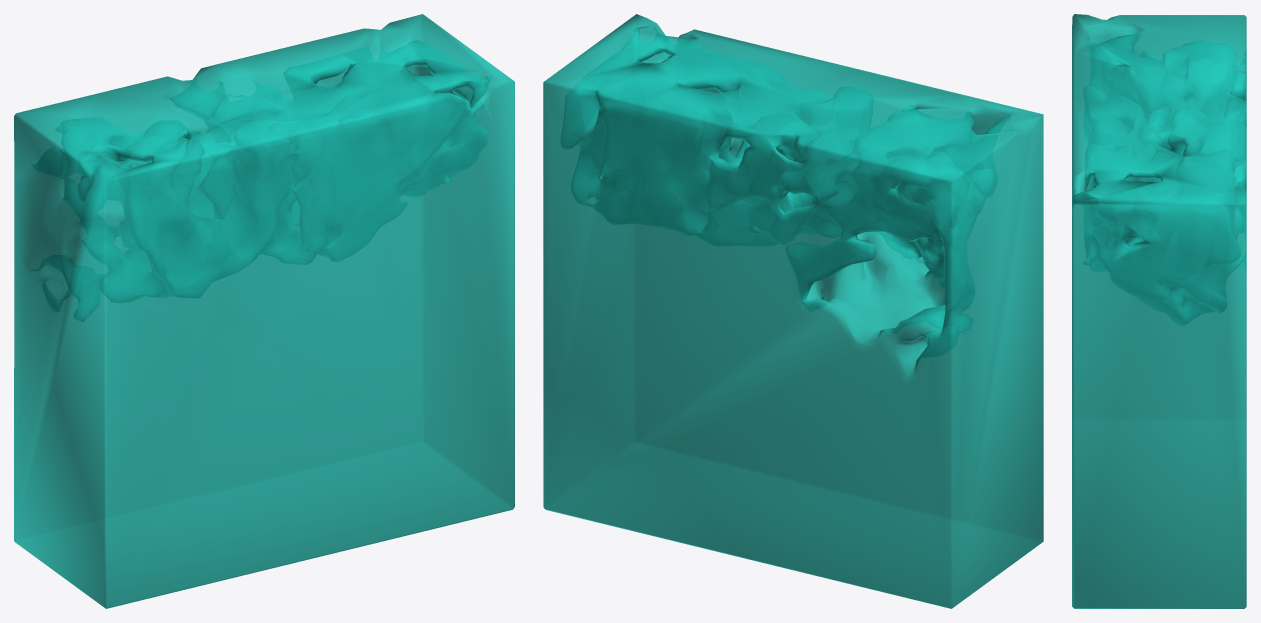
3 renders of one model, left to right at view 1: azimuth 30°, elevation 25°; view 2: azimuth 150°, elevation 25°; view 3: azimuth 270°, elevation 25°, orthographic. The views are drawn at different scales.
Parts seen in each view (by area): view 1: Liquid_Domain; view 2: Liquid_Domain; view 3: Liquid_Domain.
Boxes of the visible parts, bbox=[...] form: Liquid_Domain: bbox=[14, 14, 514, 608]; Liquid_Domain: bbox=[543, 14, 1043, 608]; Liquid_Domain: bbox=[1072, 14, 1246, 608].
Size of the model in its own units: 1965 by 1966 by 765.
